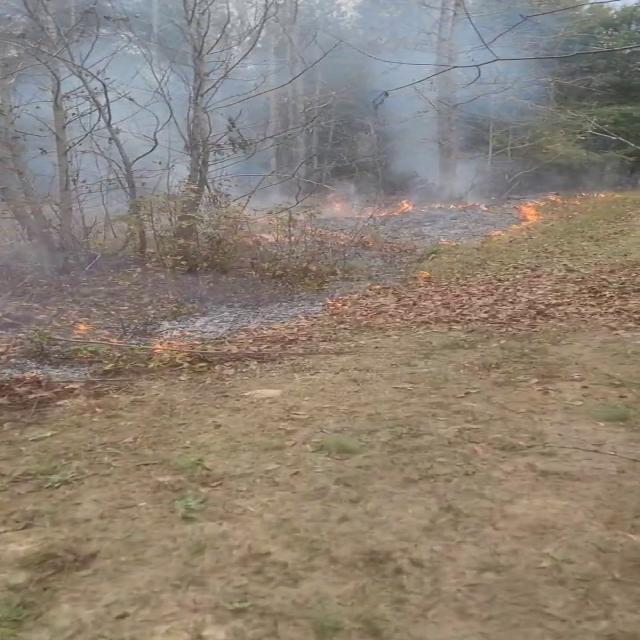Fire: (510, 190, 562, 231)
Smoke: (6, 0, 614, 224)
